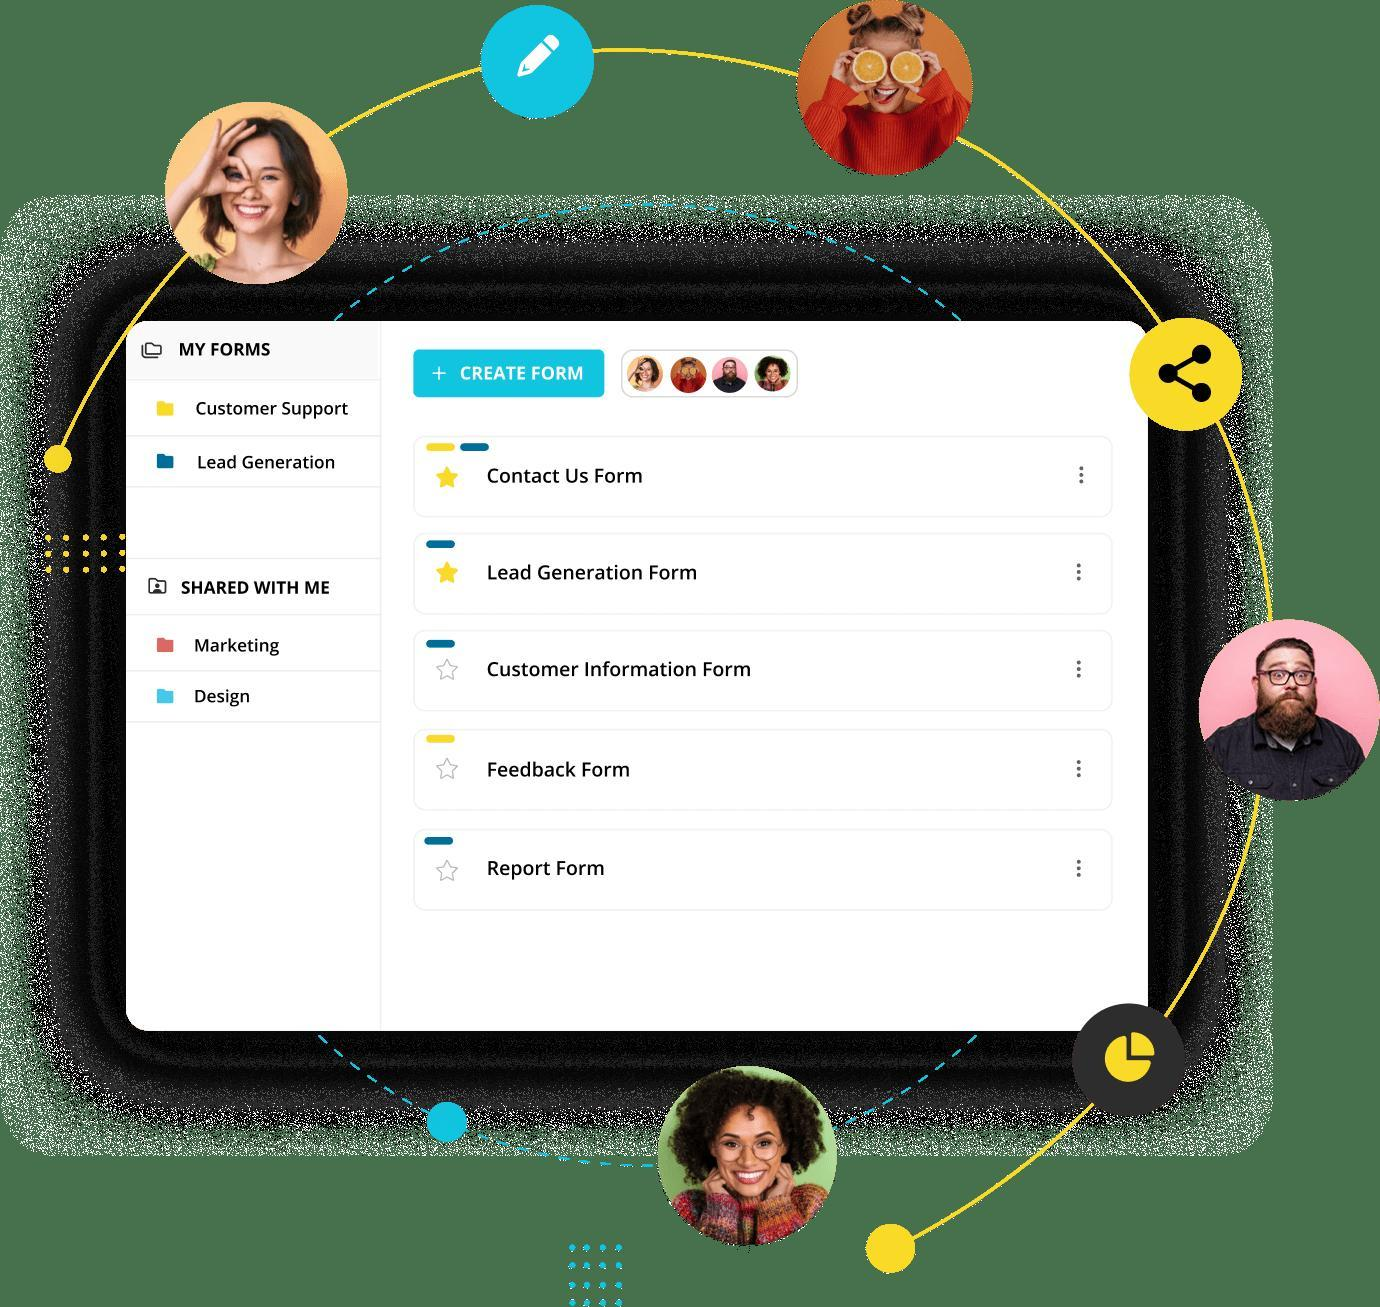button: (128, 381, 378, 441), (131, 324, 382, 383), (130, 558, 383, 615), (129, 614, 383, 671), (130, 672, 383, 727), (130, 440, 382, 485), (414, 349, 605, 399)
icon: (437, 653, 462, 690), (437, 751, 462, 787), (433, 466, 462, 494), (154, 447, 179, 477), (1074, 459, 1095, 495), (437, 856, 460, 889), (152, 396, 179, 423), (140, 338, 167, 364), (435, 561, 460, 590), (1069, 653, 1090, 685), (1072, 754, 1092, 785), (147, 574, 172, 599), (154, 685, 181, 708), (155, 633, 179, 656), (1072, 854, 1090, 882), (1072, 556, 1089, 586), (431, 362, 450, 388)
label: (484, 556, 704, 590), (484, 660, 759, 685), (484, 754, 639, 795), (480, 466, 659, 496), (482, 854, 614, 883)
